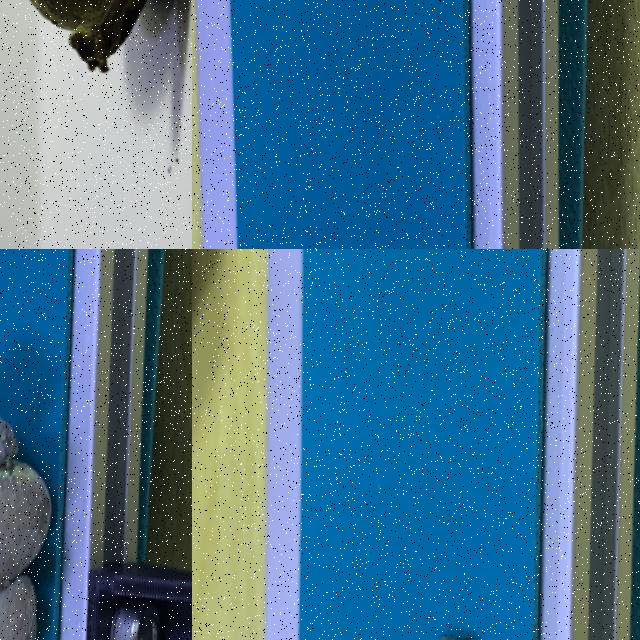Agglomerated_cocoabeans: (0, 0, 191, 178), (0, 289, 86, 639)
Flat_cocoabeans: (389, 542, 521, 639)
